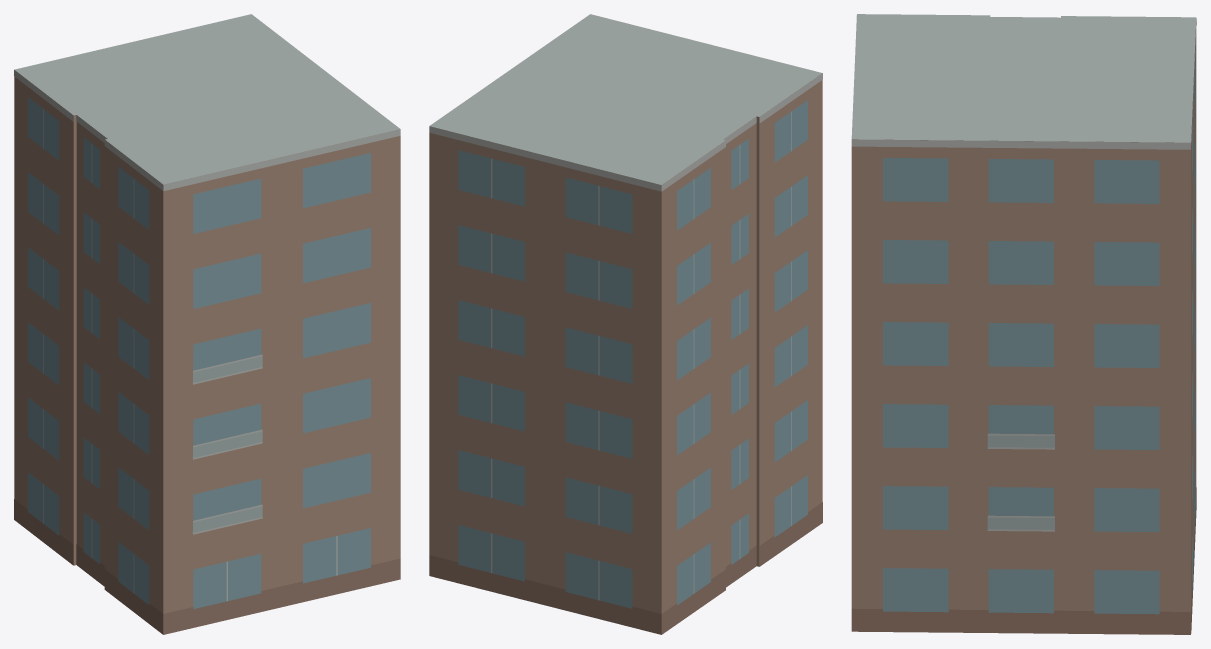
File: survey-upis-32992813.glb
The picture shows the model from 3 angles, left to right: view 1: azimuth 30°, elevation 25°; view 2: azimuth 150°, elevation 25°; view 3: azimuth 270°, elevation 25°; orthographic projection. The views are drawn at different scales.
Visible parts, largest first — view 1: survey-upis-32992813.tmp; view 2: survey-upis-32992813.tmp; view 3: survey-upis-32992813.tmp.
Boxes of the visible parts, bbox=[...] form: survey-upis-32992813.tmp: bbox=[14, 14, 400, 634]; survey-upis-32992813.tmp: bbox=[429, 14, 822, 634]; survey-upis-32992813.tmp: bbox=[851, 14, 1196, 634].
Size of the model in its own units: 9.37 by 16.7 by 10.61.
